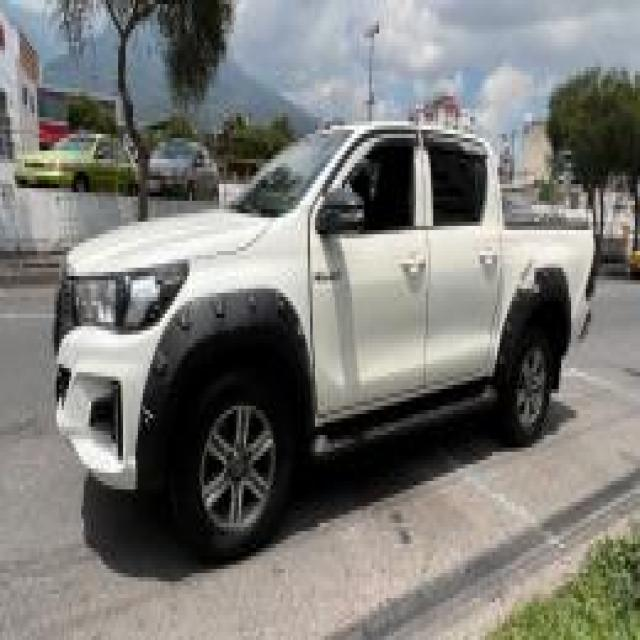CMT: (55, 109, 589, 552)
